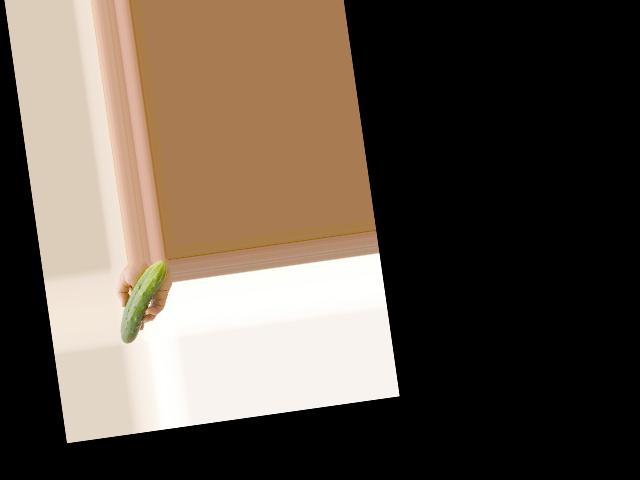cucumber: (111, 260, 177, 344)
